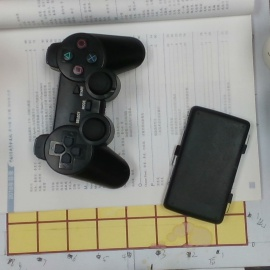remote: (36, 33, 145, 189)
